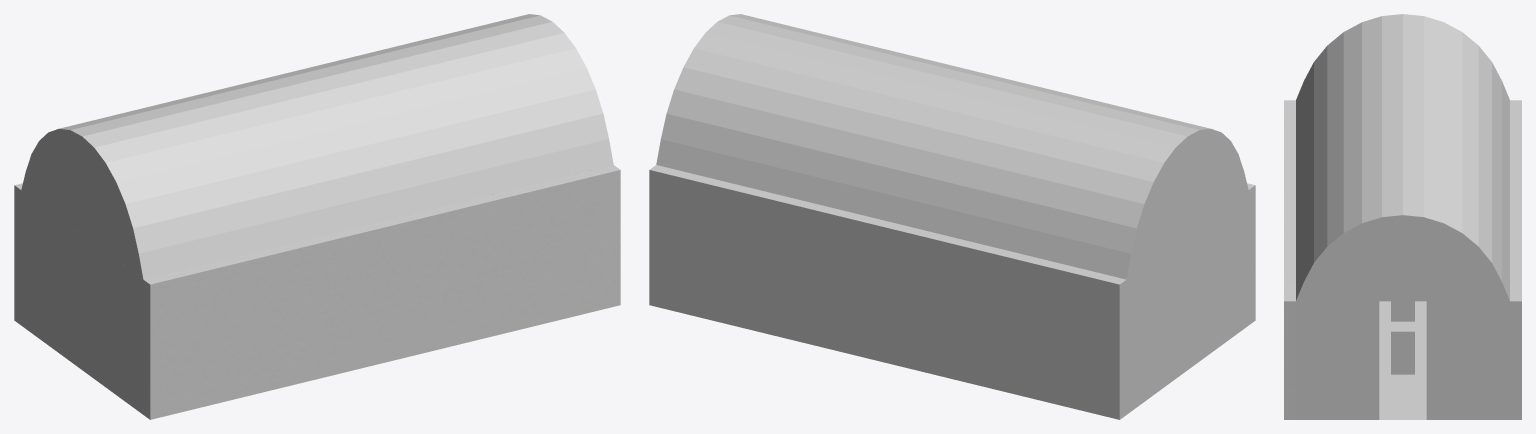
File: gallery2020.glb
3 renders of one model, left to right at view 1: azimuth 30°, elevation 25°; view 2: azimuth 150°, elevation 25°; view 3: azimuth 270°, elevation 25°, orthographic. The views are drawn at different scales.
Parts seen in each view (by area): view 1: Circle, Cube.003, Cube.005, Cube.004; view 2: Circle, Cube.004, Cube.005, Cube.003; view 3: Circle, Cube.006, Cube.007, Cube.003, Cube.004, Plane, Cube, Cube.001, Plane.001.
Boxes of the visible parts, x1,y1,x2,y2 form: Circle: [21, 14, 613, 279]; Cube.003: [143, 165, 620, 419]; Cube.005: [21, 190, 143, 414]; Cube.004: [14, 183, 22, 325]; Circle: [656, 14, 1248, 279]; Cube.004: [649, 165, 1126, 419]; Cube.005: [1126, 190, 1248, 414]; Cube.003: [1247, 183, 1255, 325]; Circle: [1296, 14, 1509, 301]; Cube.006: [1296, 301, 1379, 419]; Cube.007: [1426, 301, 1509, 419]; Cube.003: [1284, 100, 1295, 419]; Cube.004: [1510, 100, 1521, 419]; Plane: [1379, 319, 1426, 419]; Cube: [1391, 321, 1414, 374]; Cube.001: [1391, 301, 1414, 321]; Plane.001: [1379, 301, 1426, 319].
Bounding box in the file's own units: 40 × 19 × 20.
Materials: 1 (1 with a texture image).
